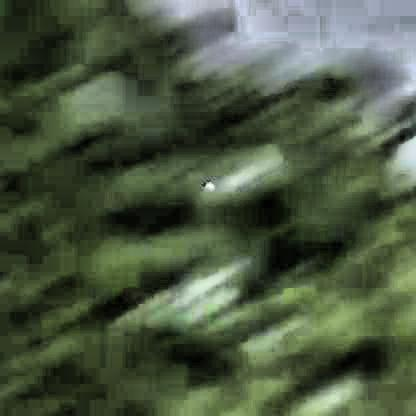golfball: (200, 180, 213, 191)
